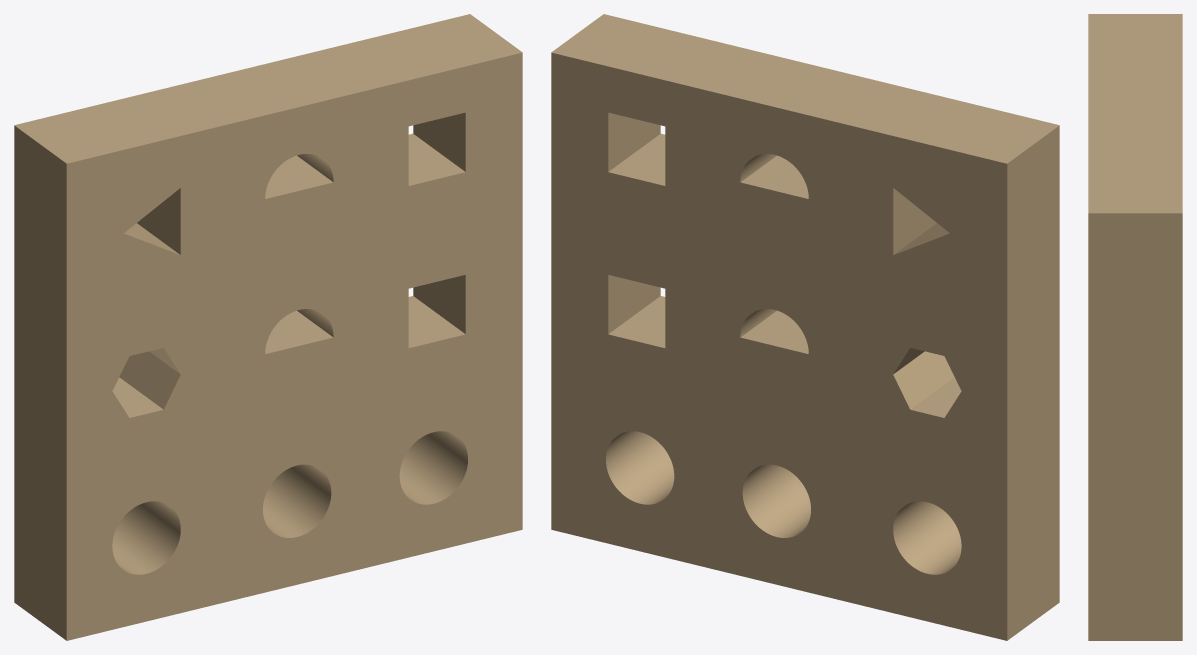
The model's file is kit.obj.
3 renders of one model, left to right at view 1: azimuth 30°, elevation 25°; view 2: azimuth 150°, elevation 25°; view 3: azimuth 270°, elevation 25°, orthographic. The views are drawn at different scales.
Parts seen in each view (by area): view 1: ___01; view 2: ___01; view 3: ___01.
Part boxes in pixels (bbox=[...]): ___01: bbox=[14, 14, 522, 640]; ___01: bbox=[551, 14, 1059, 640]; ___01: bbox=[1088, 14, 1182, 640].
Size of the model in its own units: 0.02 by 0.02 by 0.004.
